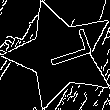L_W: (30, 32, 91, 77)
